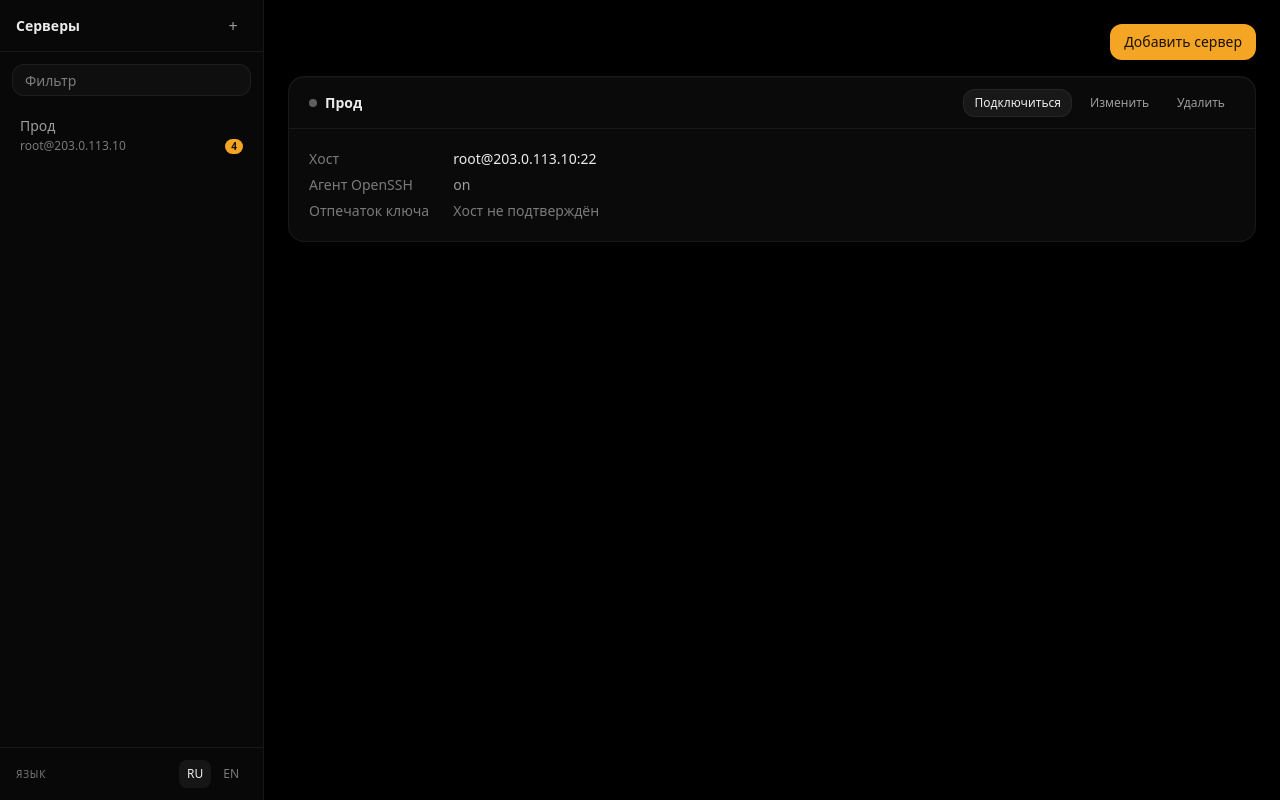
Scenario: навигация › счётчик событий в рейке ведёт прямо в ленту
Click the button "4" at (234, 146), box [225,138,243,154]
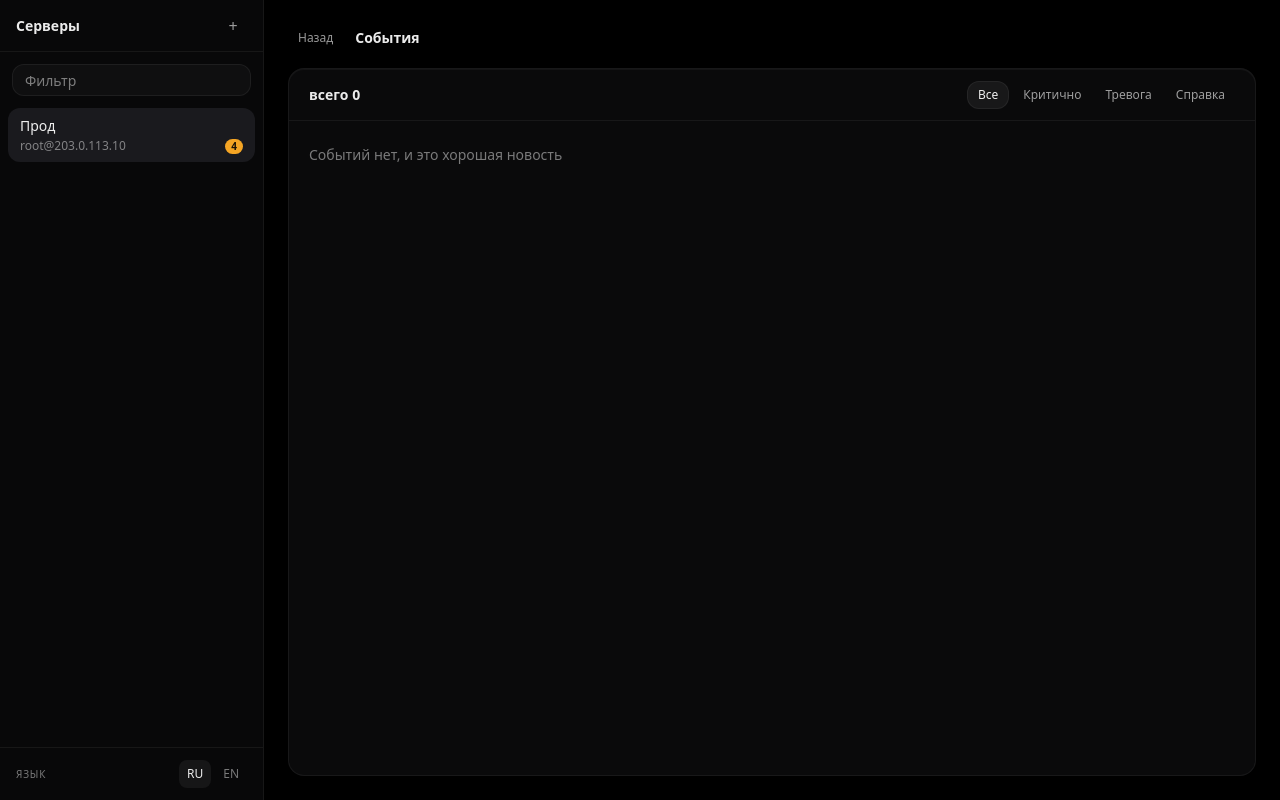
Check: the heading "всего 0" is shown, box [309,84,360,104]
